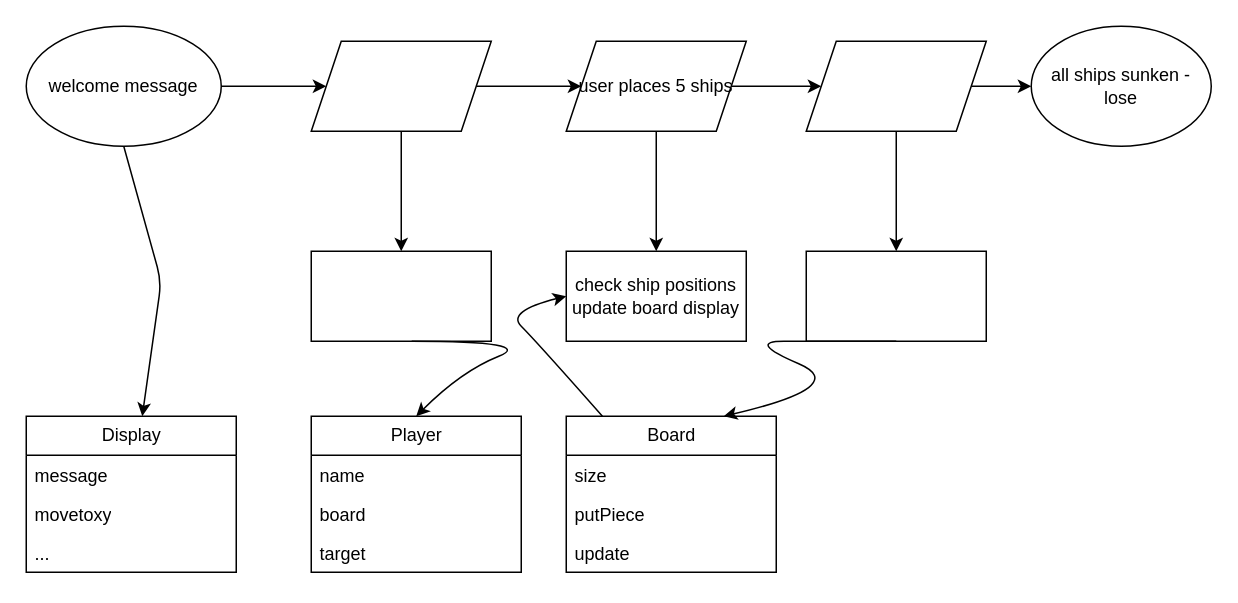
This 1238x603 diagram has some shape labels left out. The shapes that lost their labels are listed below. From the top down, each one's centre as x and y in pixels, then its label:
(400,85): get user name
(895,85): take turns
(400,295): create players create oceanboards display the boards
(895,295): update hit location update record
